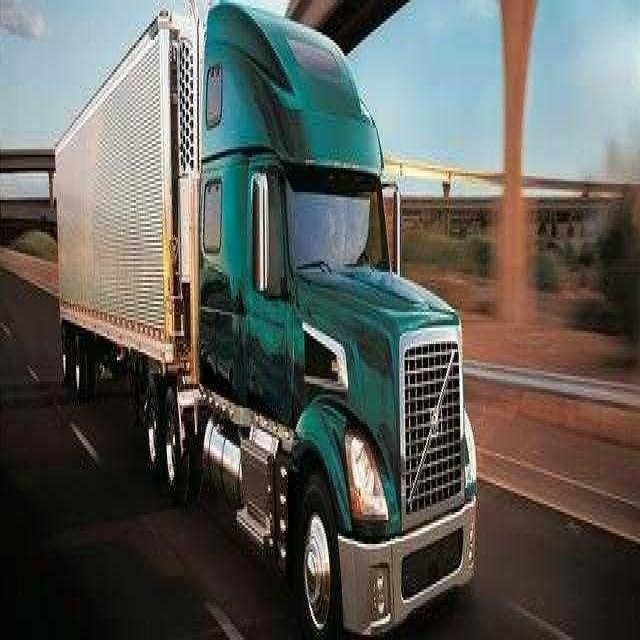Truck: (55, 4, 485, 640)
